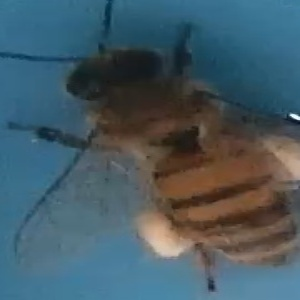bee: (8, 25, 300, 291)
